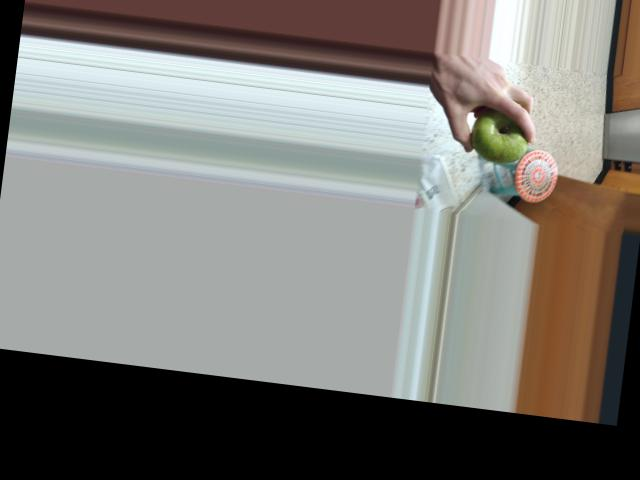apple: (464, 99, 536, 168)
